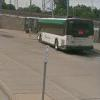Bus: (34, 12, 96, 58)
